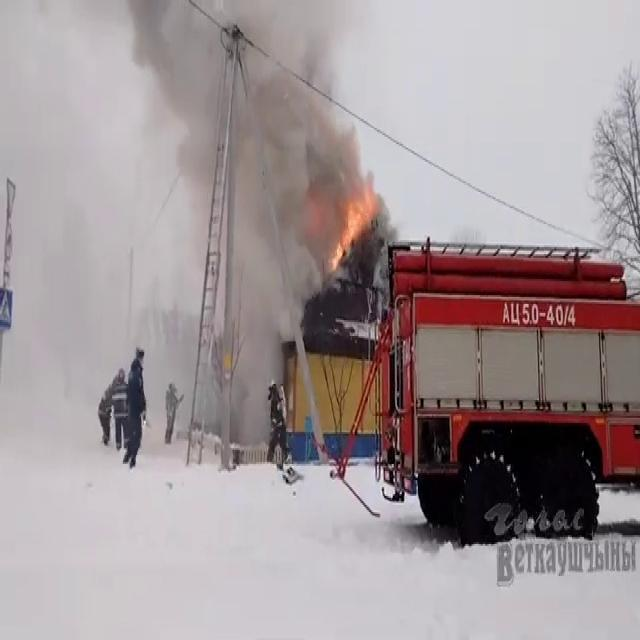Fire: (330, 182, 382, 270)
Smoke: (132, 0, 382, 400)
